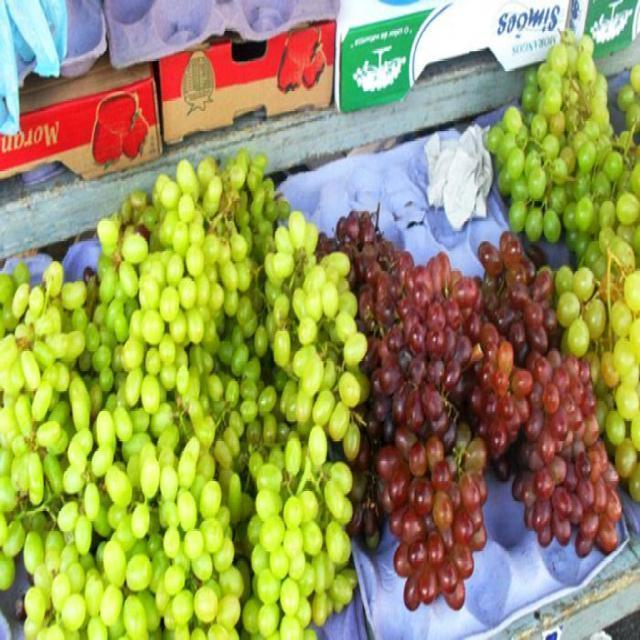Grape: (0, 30, 639, 639)
